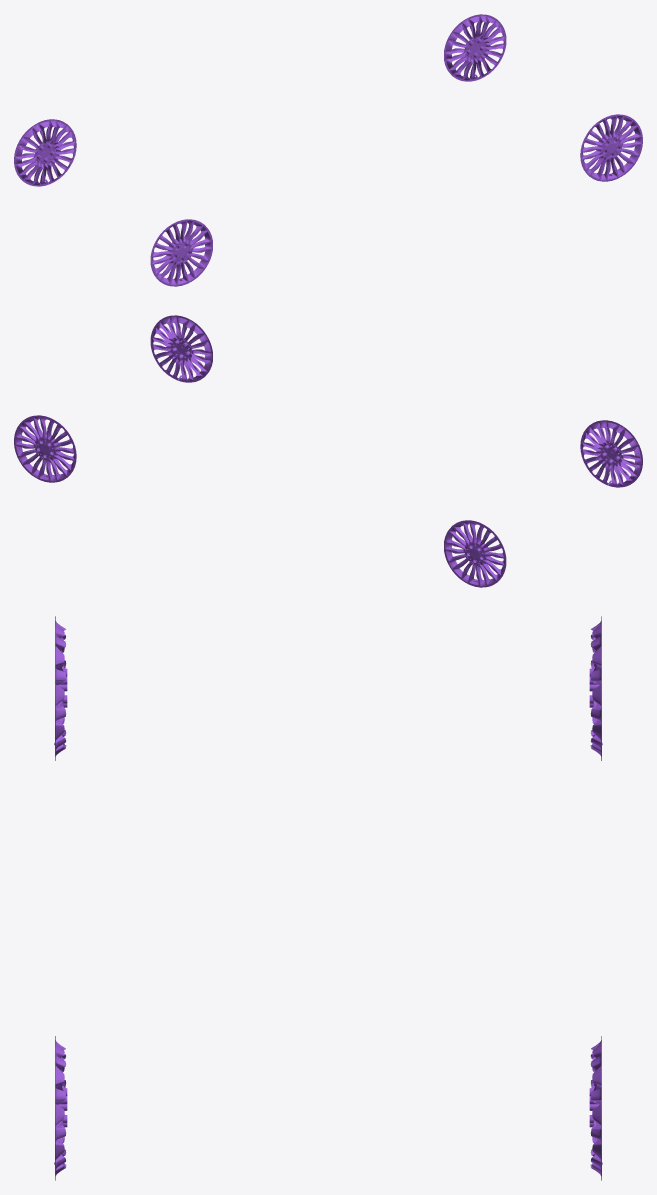
The model's file is Tire_RK2.glb.
3 renders of one model, top to bottom at view 1: azimuth 30°, elevation 25°; view 2: azimuth 150°, elevation 25°; view 3: azimuth 270°, elevation 25°, orthographic. The views are drawn at different scales.
Parts seen in each view (by area): view 1: tire_car03_f009, tire_car03_f006, tire_car03_f008, tire_car03_f007; view 2: tire_car03_f009, tire_car03_f006, tire_car03_f008, tire_car03_f007; view 3: tire_car03_f009, tire_car03_f006.
Part boxes in pixels (x1,y1,x2,y2): tire_car03_f009: [15, 120, 211, 285]; tire_car03_f006: [445, 15, 641, 180]; tire_car03_f008: [14, 119, 212, 286]; tire_car03_f007: [444, 14, 642, 181]; tire_car03_f009: [445, 421, 641, 586]; tire_car03_f006: [15, 316, 211, 481]; tire_car03_f008: [444, 420, 642, 587]; tire_car03_f007: [14, 315, 212, 482]; tire_car03_f009: [54, 621, 602, 756]; tire_car03_f006: [54, 1040, 602, 1175].
Bounding box in the file's own units: 3.93 × 0.5 × 1.89.
